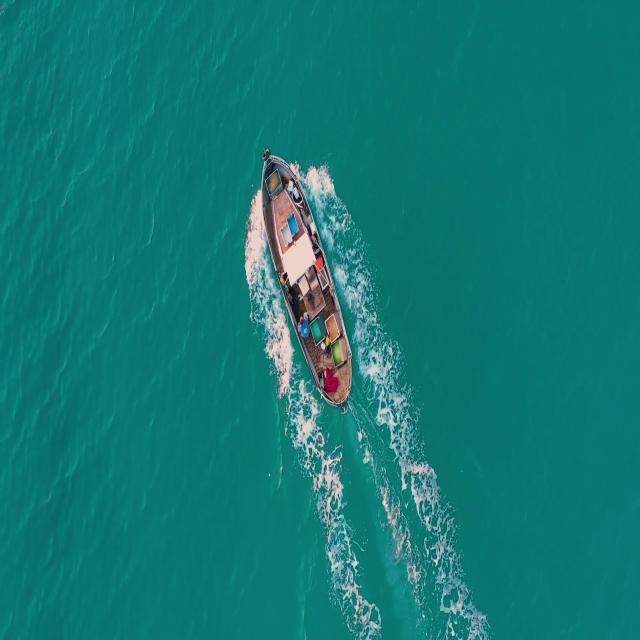ship: (260, 146, 362, 412)
